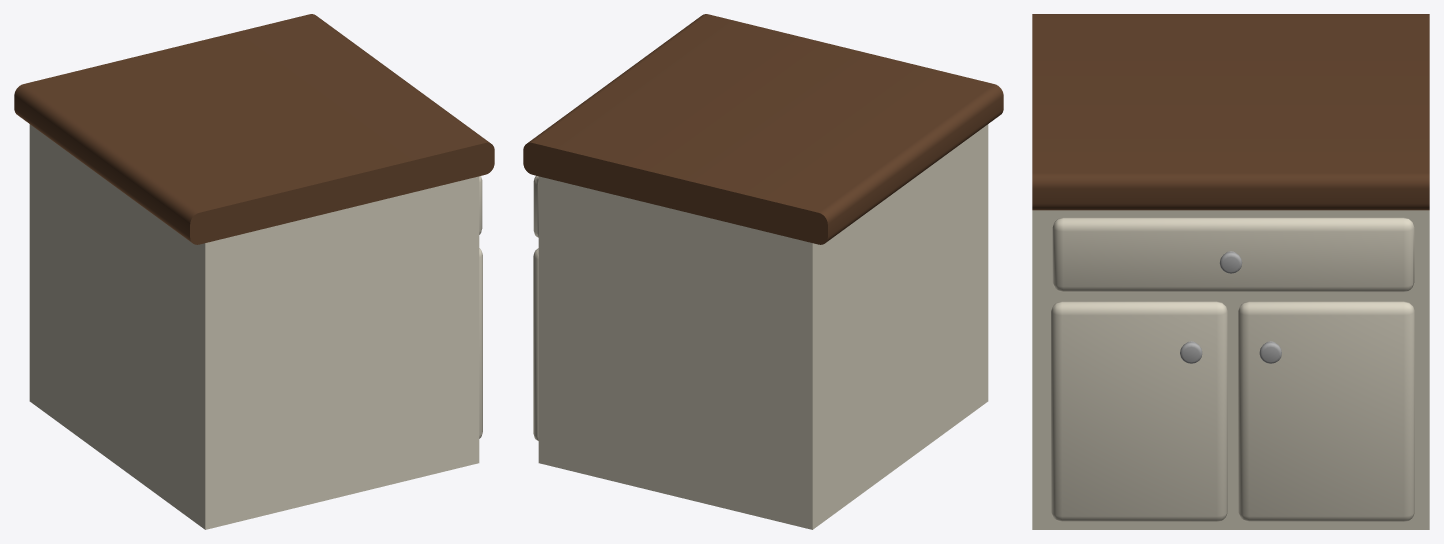
File: Counter_2.fbx
3 renders of one model, left to right at view 1: azimuth 30°, elevation 25°; view 2: azimuth 150°, elevation 25°; view 3: azimuth 270°, elevation 25°, orthographic. The views are drawn at different scales.
Parts seen in each view (by area): view 1: Cube.133, Cube.099, Cube.136; view 2: Cube.133, Cube.099, Cube.135; view 3: Cube.099, Cube.135, Cube.136, Cube.130, Cube.133.
Boxes of the visible parts, x1,y1,x2,y2 form: Cube.133: (29, 124, 479, 529); Cube.099: (14, 14, 494, 244); Cube.136: (479, 248, 482, 438); Cube.133: (538, 124, 988, 529); Cube.099: (523, 14, 1003, 244); Cube.135: (533, 248, 538, 440); Cube.099: (1032, 14, 1429, 210); Cube.135: (1238, 301, 1414, 521); Cube.136: (1051, 301, 1227, 521); Cube.130: (1052, 217, 1414, 292); Cube.133: (1032, 210, 1429, 529).
Size of the model in its own units: 208 by 200 by 200.
